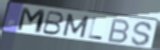B: (106, 18, 132, 45), (41, 10, 66, 36)
L: (87, 17, 104, 41)
M: (15, 6, 48, 36), (61, 13, 91, 40)
S: (130, 21, 154, 48)
